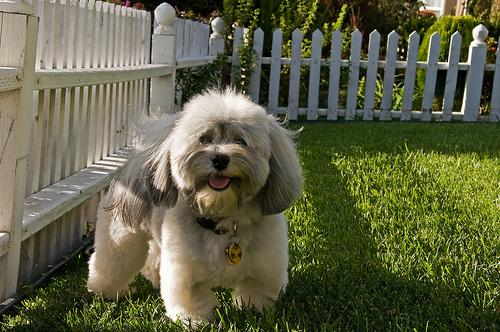dog-havanese: (142, 93, 301, 213)
